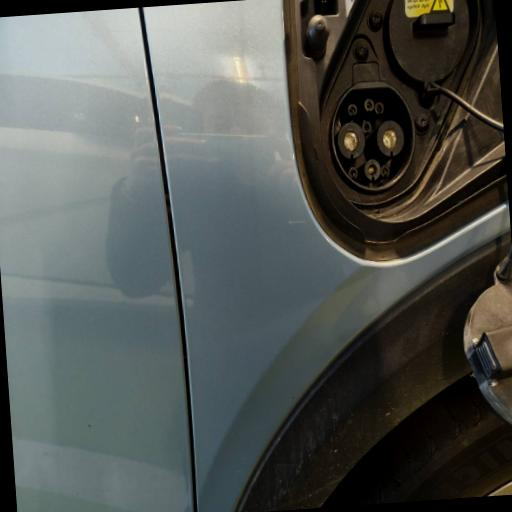DC_hole: (336, 120, 367, 162), (374, 119, 406, 159)
PE: (364, 159, 382, 182)
charging_port: (326, 76, 420, 196)
